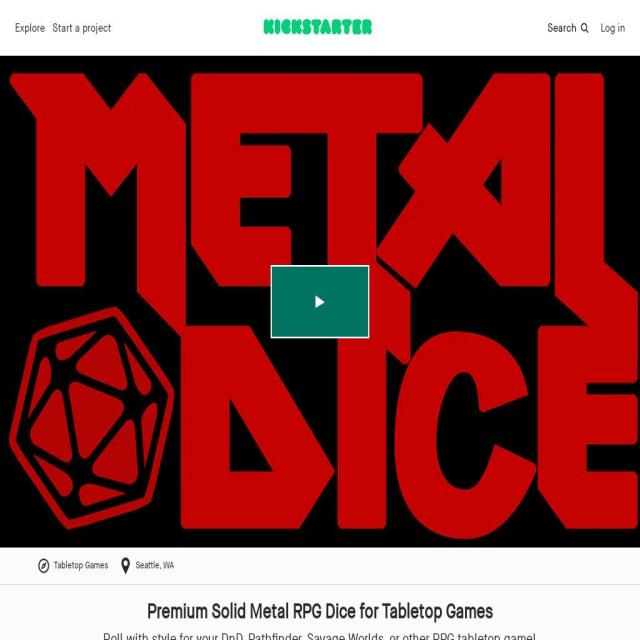button: (264, 18, 376, 37), (15, 10, 45, 45), (120, 557, 174, 574), (548, 18, 590, 37), (601, 18, 625, 37)
field: (80, 506, 446, 513)
heading: (86, 599, 554, 625)
image: (0, 56, 640, 547), (264, 18, 376, 37)
link: (52, 10, 111, 45)
text: (86, 629, 554, 640), (54, 558, 108, 572), (136, 558, 174, 574), (548, 18, 576, 37), (52, 499, 72, 520), (449, 499, 469, 520)
